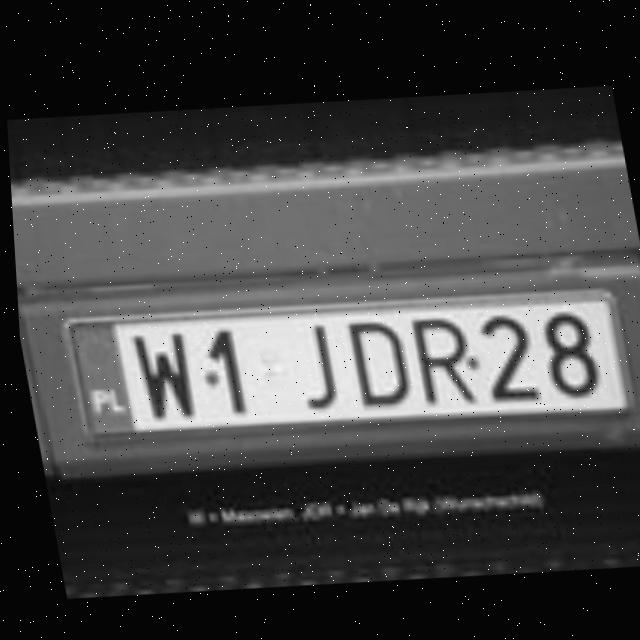license-plates: (69, 323, 133, 435)
